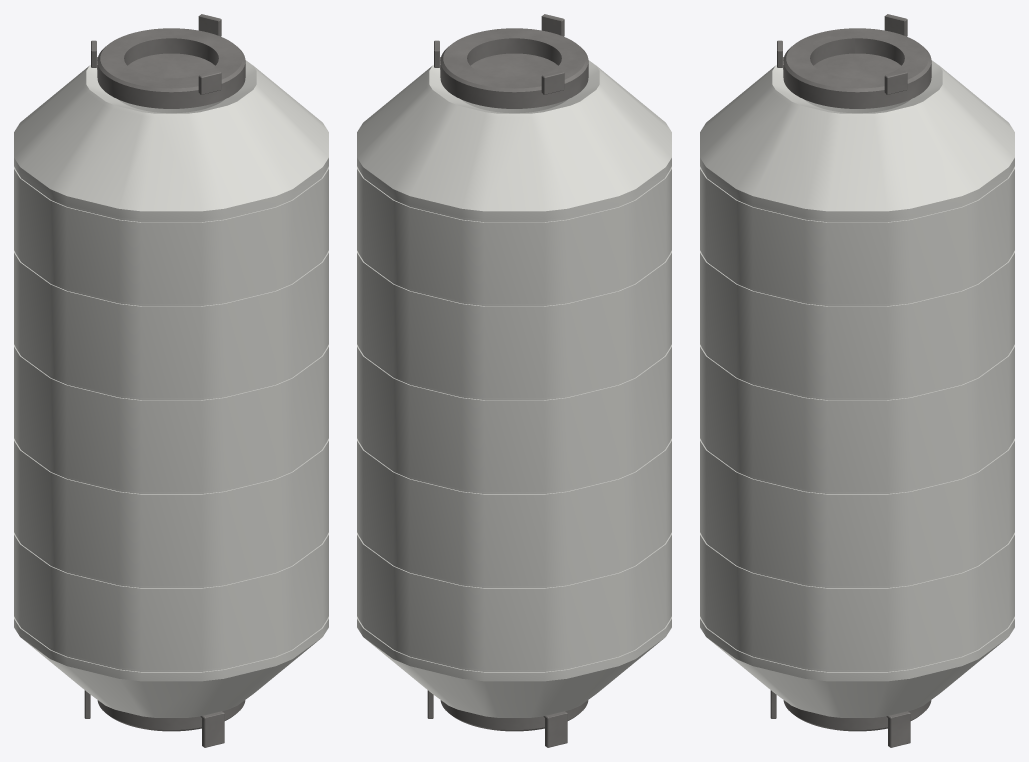
Rendered from ax_station_08_inflatable_hab_stowed.glb.
3 views of the same model, side by side, from view 1: azimuth 30°, elevation 25°; view 2: azimuth 150°, elevation 25°; view 3: azimuth 270°, elevation 25° (orthographic).
Parts seen in each view (by area): view 1: inflatable_stowed, port_top, hatch_door_2, port_bottom, port_top_petals, port_bottom_petals; view 2: inflatable_stowed, port_top, hatch_door_2, port_bottom, port_top_petals, port_bottom_petals; view 3: inflatable_stowed, port_top, hatch_door_2, port_bottom, port_top_petals, port_bottom_petals.
Boxes of the visible parts, bbox=[...] form: inflatable_stowed: bbox=[14, 60, 328, 717]; port_top: bbox=[97, 28, 245, 108]; hatch_door_2: bbox=[128, 53, 214, 78]; port_bottom: bbox=[97, 700, 245, 731]; port_top_petals: bbox=[91, 14, 221, 94]; port_bottom_petals: bbox=[84, 690, 224, 747]; inflatable_stowed: bbox=[357, 60, 671, 717]; port_top: bbox=[440, 28, 588, 108]; hatch_door_2: bbox=[471, 53, 557, 78]; port_bottom: bbox=[440, 700, 588, 731]; port_top_petals: bbox=[434, 14, 564, 94]; port_bottom_petals: bbox=[427, 690, 567, 747]; inflatable_stowed: bbox=[700, 60, 1014, 717]; port_top: bbox=[783, 28, 931, 108]; hatch_door_2: bbox=[814, 53, 900, 78]; port_bottom: bbox=[783, 700, 931, 731]; port_top_petals: bbox=[777, 14, 907, 94]; port_bottom_petals: bbox=[770, 690, 910, 747].
Size of the model in its own units: 3.4 by 7.97 by 3.4.
Materials: 3 (2 with a texture image).
